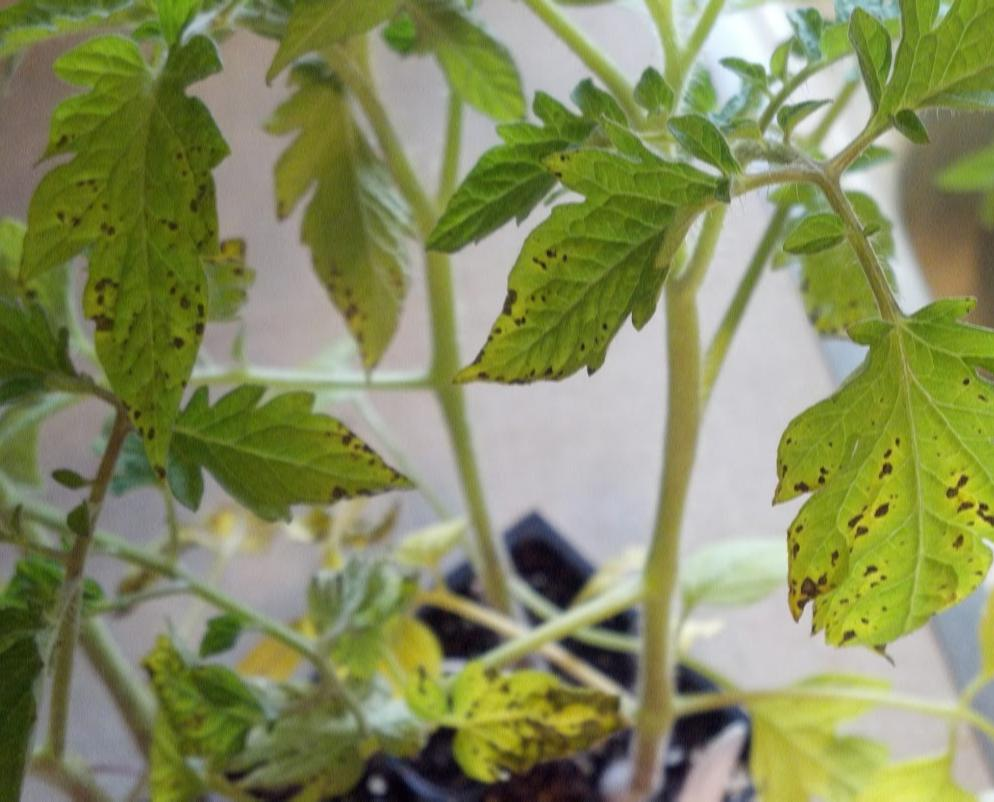Tomato Septoria leaf spot: (8, 55, 244, 505), (761, 323, 994, 701), (428, 132, 747, 393), (123, 382, 430, 552), (430, 648, 640, 802)
